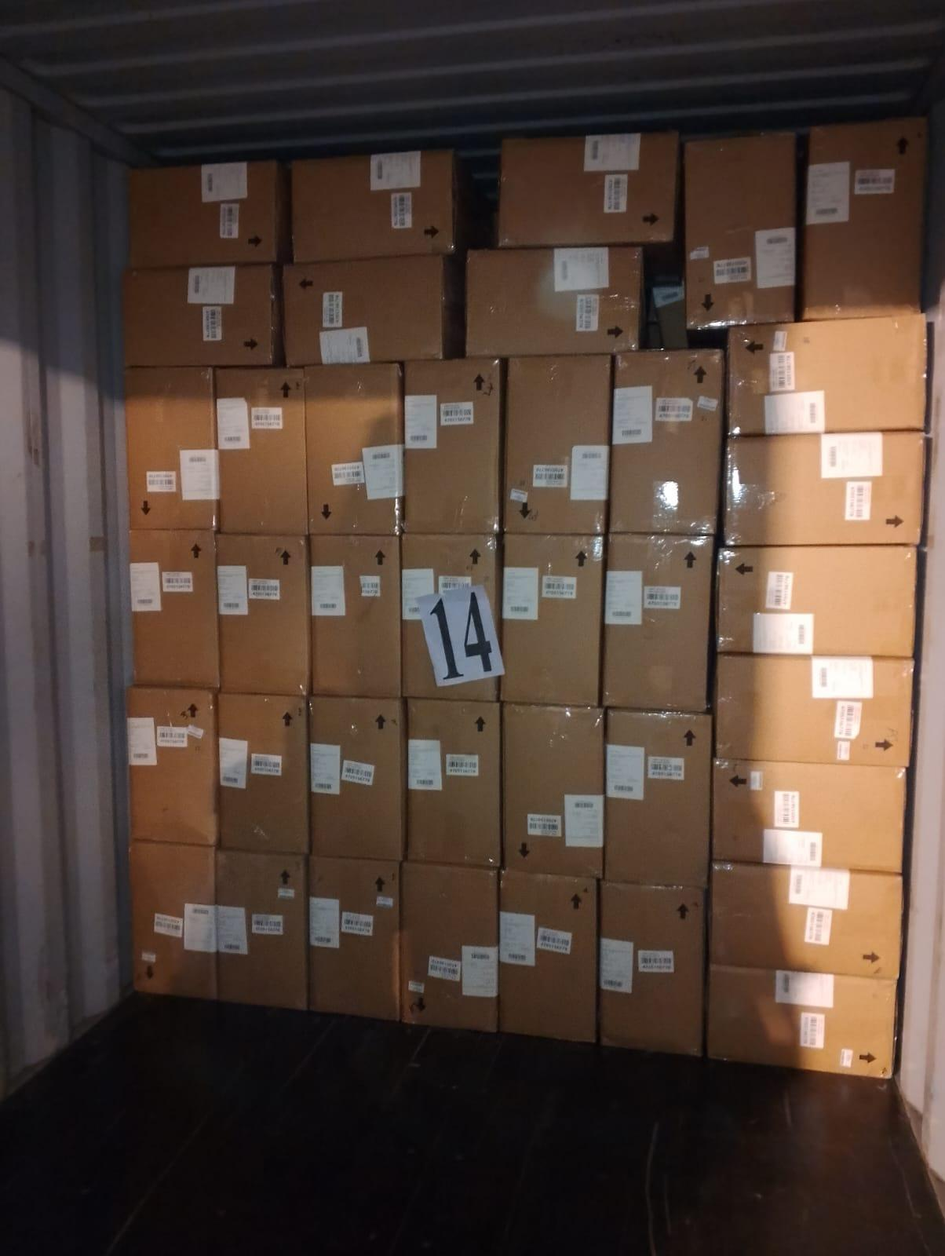carton: (800, 119, 927, 318), (726, 315, 924, 436), (724, 431, 924, 547), (716, 545, 917, 658), (713, 653, 911, 766), (708, 862, 900, 978), (713, 757, 905, 872), (684, 133, 797, 327), (708, 963, 896, 1078), (493, 132, 678, 248), (609, 349, 723, 534), (290, 150, 474, 261), (601, 534, 713, 712), (465, 246, 644, 357), (284, 254, 457, 366), (604, 709, 712, 886), (504, 356, 611, 533), (598, 881, 704, 1057), (501, 704, 604, 878), (403, 357, 504, 534), (501, 534, 604, 706), (129, 160, 290, 267), (498, 869, 597, 1042), (305, 362, 403, 535), (401, 533, 502, 700), (400, 862, 498, 1031), (124, 263, 281, 368), (309, 696, 407, 860), (407, 699, 501, 867), (215, 533, 312, 695), (123, 366, 219, 529), (215, 367, 308, 535), (308, 855, 400, 1020), (128, 528, 221, 690), (125, 687, 219, 845), (311, 534, 402, 697), (217, 692, 309, 853), (215, 849, 307, 1009), (129, 841, 217, 999)
